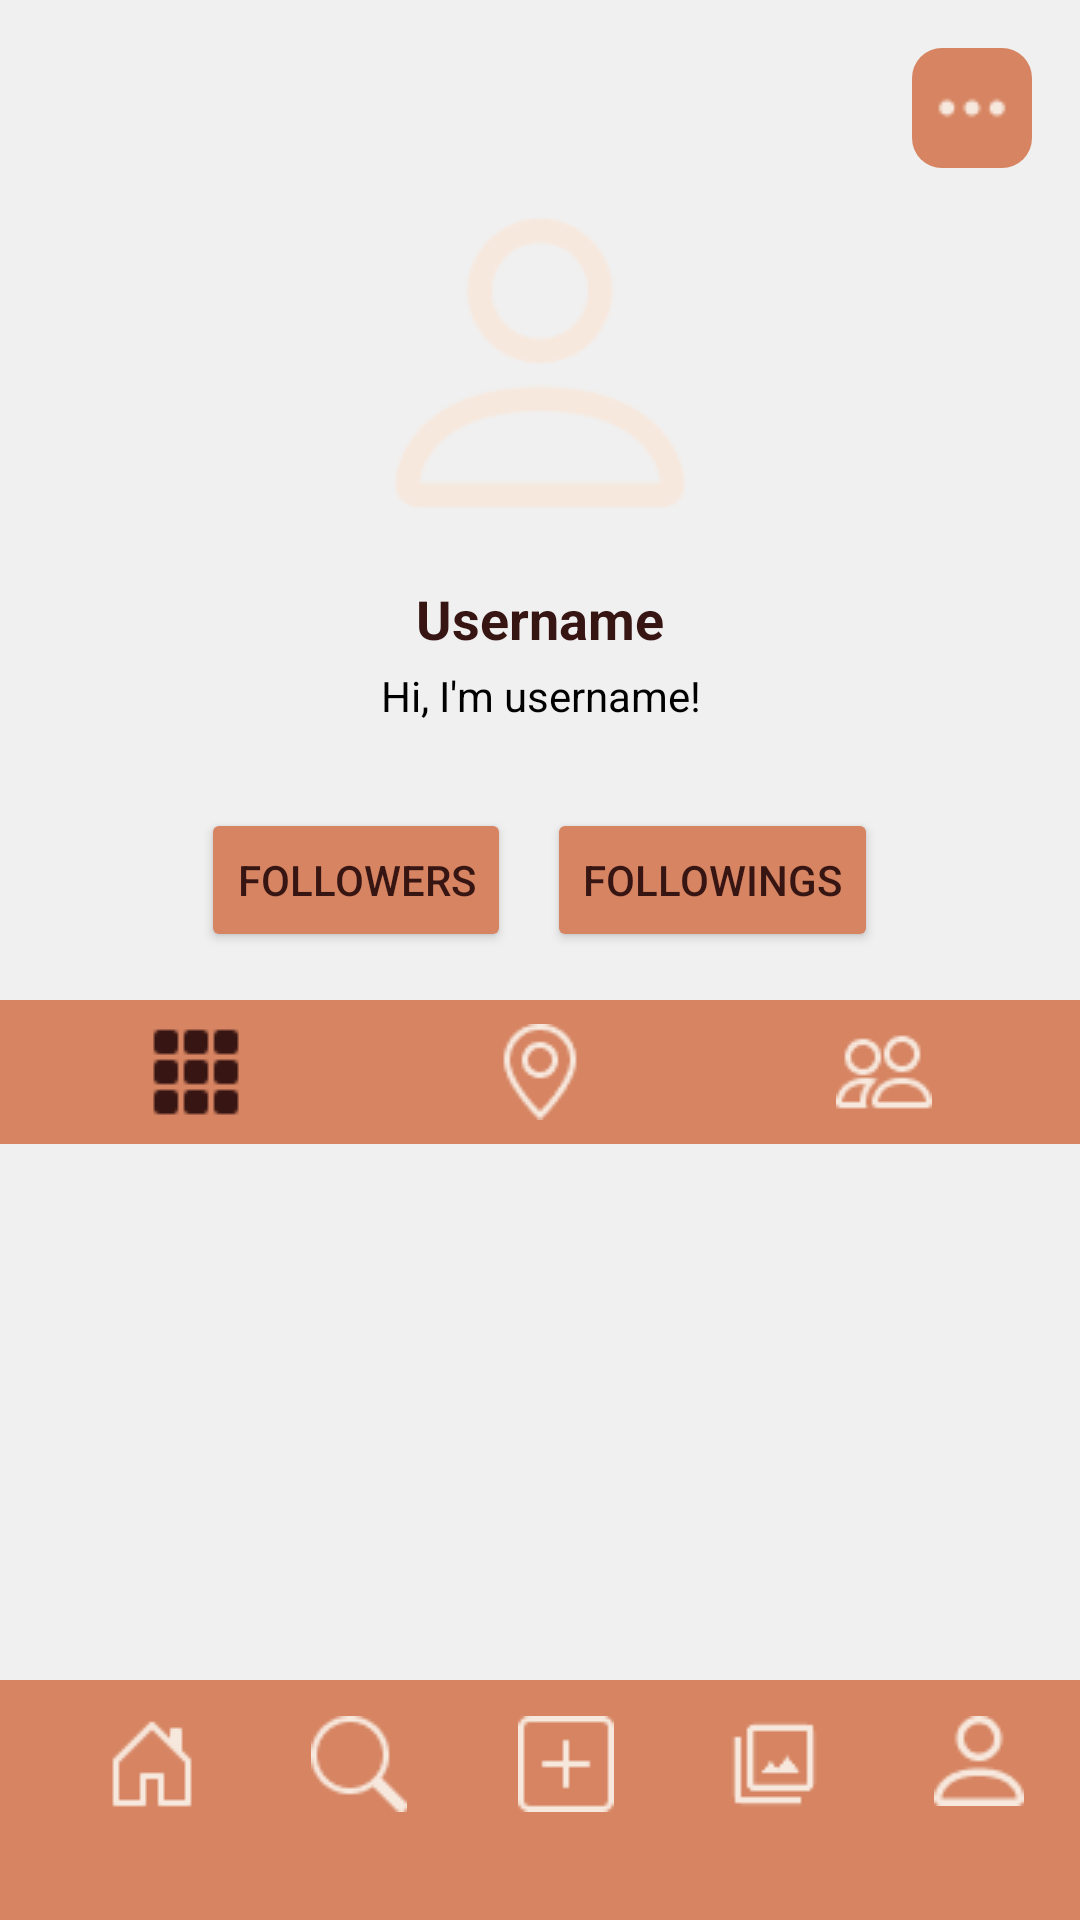

Where to tap for icons on this 1080 × 1920 app screen, as (x=x, y=y):
geo: (x=540, y=1072)
grid gap: (x=196, y=1072)
house: (x=152, y=1764)
Options menu: (x=972, y=108)
people: (x=884, y=1072)
person: (x=979, y=1761)
plus square: (x=566, y=1764)
search: (x=359, y=1764)
